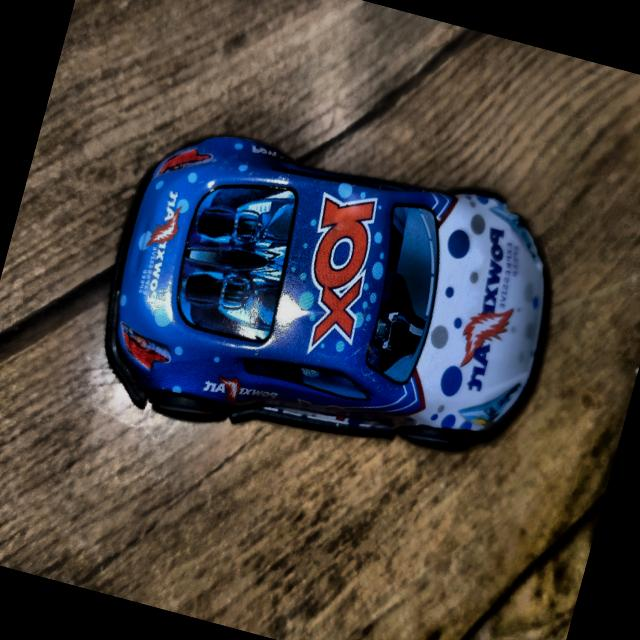Car: (82, 105, 576, 502)
